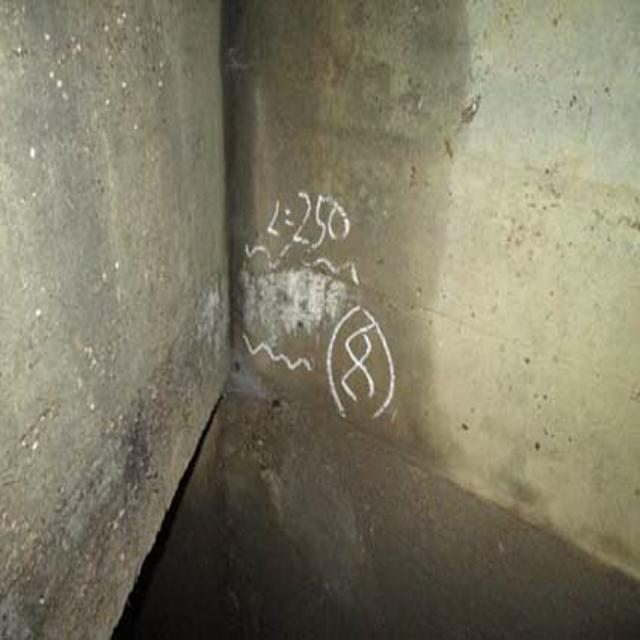freelime: (227, 250, 357, 331)
